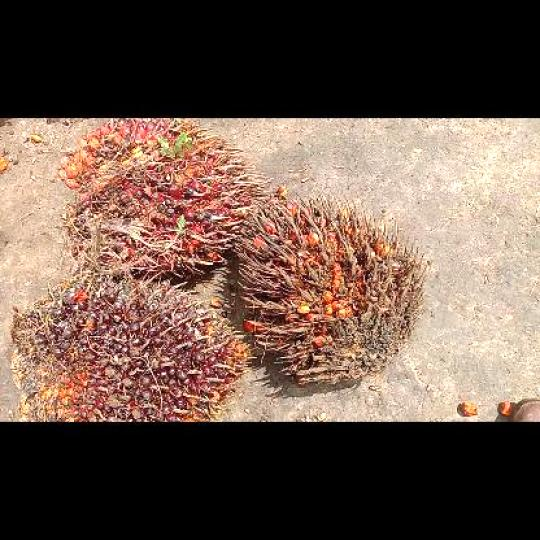kurang masak: (9, 281, 243, 420)
masak: (56, 118, 253, 279)
terlalu masak: (236, 192, 421, 387)
